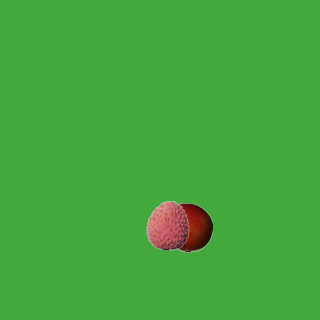Apple Braeburn: (162, 202, 212, 252)
Lychee: (142, 200, 192, 250)
